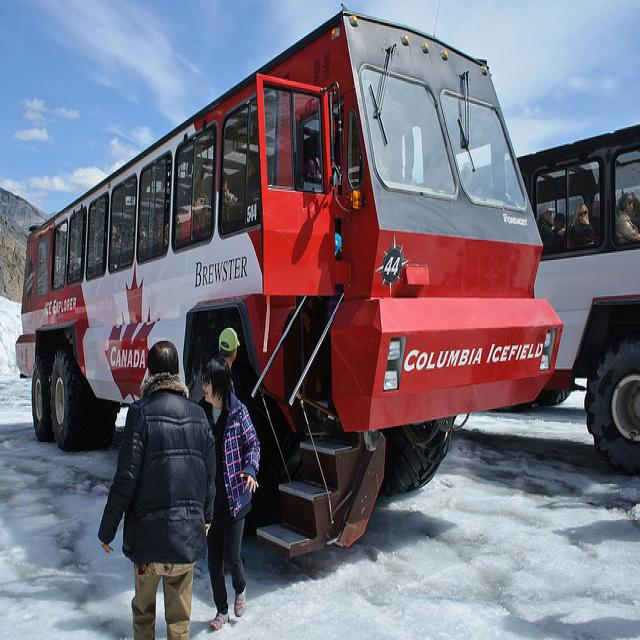Vehicle: (18, 7, 564, 558), (518, 122, 640, 476)
